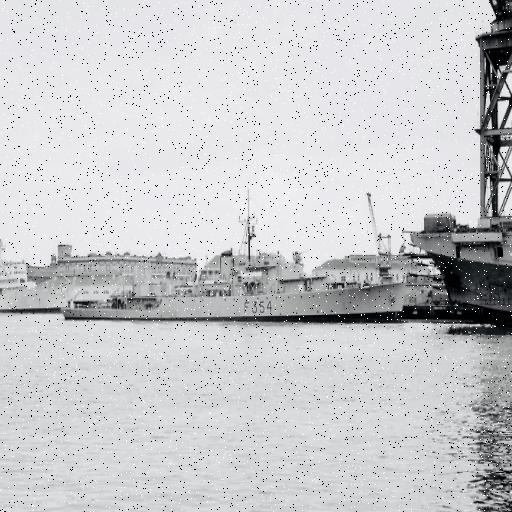Fragata: (59, 207, 411, 323)
